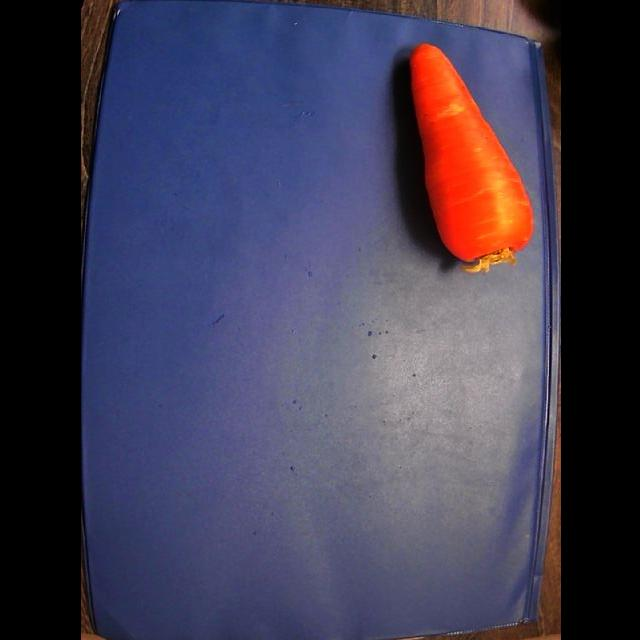zanahoria: (409, 44, 532, 272)
